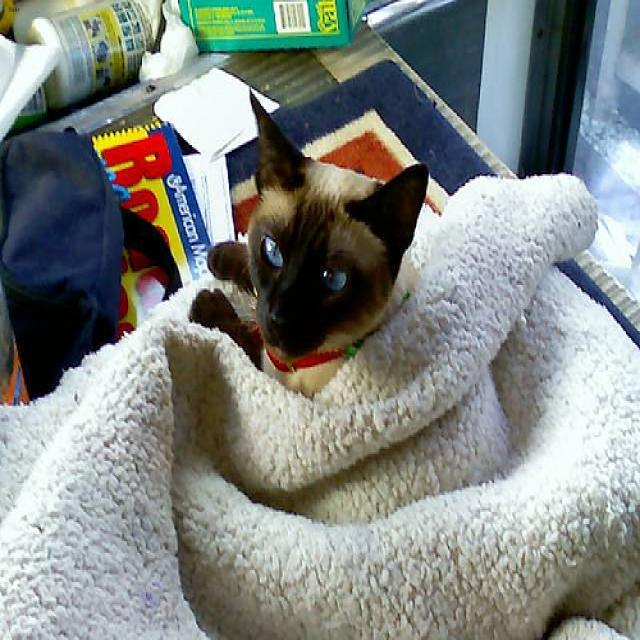Siamese: (246, 91, 426, 360)
